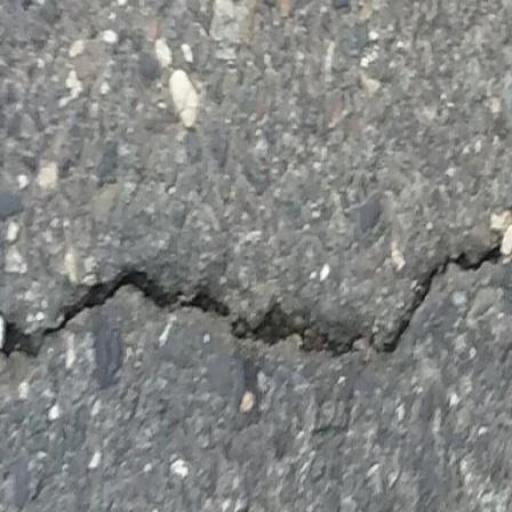spalling: (1, 230, 508, 372)
